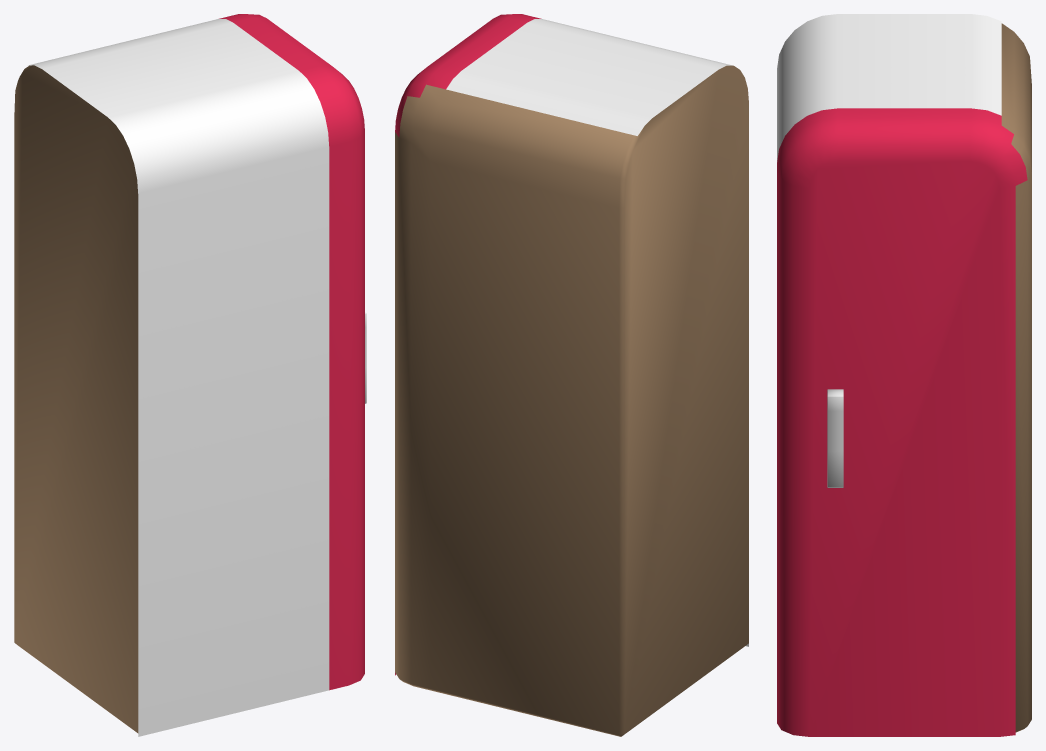
Rendered from fridge.glb.
The picture shows the model from 3 angles, left to right: view 1: azimuth 30°, elevation 25°; view 2: azimuth 150°, elevation 25°; view 3: azimuth 270°, elevation 25°; orthographic projection.
Visible parts, largest first — view 1: Plane.001; view 2: Plane.001; view 3: Plane.001.
Part boxes in pixels (bbox=[...]): Plane.001: bbox=[14, 14, 366, 736]; Plane.001: bbox=[395, 14, 748, 736]; Plane.001: bbox=[777, 14, 1031, 736].
Size of the model in its own units: 2.33 by 5.24 by 2.
